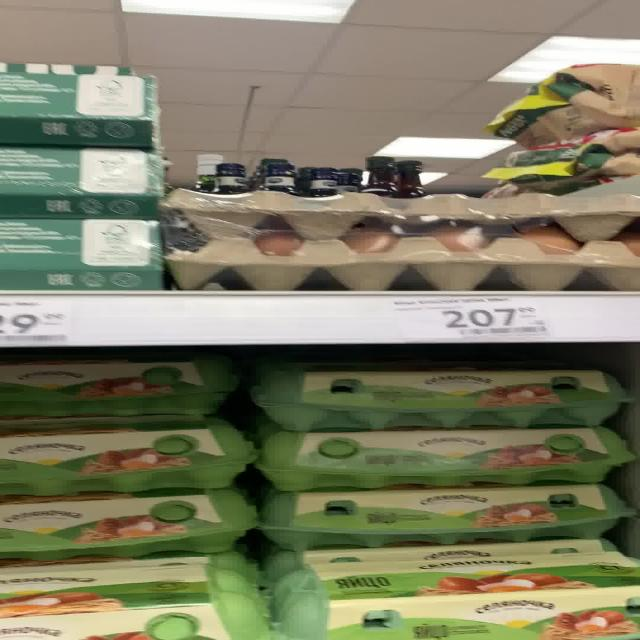egg box: (269, 552, 636, 638), (254, 365, 633, 435), (255, 486, 638, 551), (258, 426, 635, 488), (0, 557, 266, 639), (2, 417, 262, 497), (1, 483, 260, 563), (1, 356, 241, 418)
